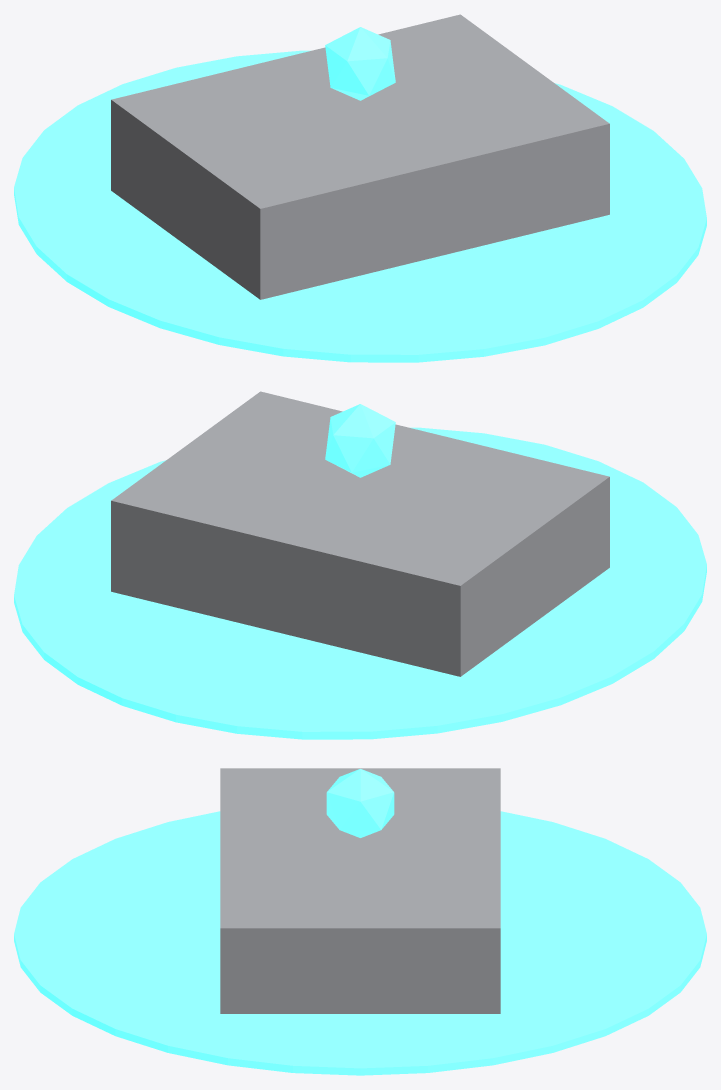
The model's file is portal_safe_zone_lev3.glb.
The picture shows the model from 3 angles, top to bottom: view 1: azimuth 30°, elevation 25°; view 2: azimuth 150°, elevation 25°; view 3: azimuth 270°, elevation 25°; orthographic projection. The views are drawn at different scales.
Parts seen in each view (by area): view 1: portal_safe_zone_lev3; view 2: portal_safe_zone_lev3; view 3: portal_safe_zone_lev3.
Boxes of the visible parts, x1,y1,x2,y2 form: portal_safe_zone_lev3: (14,14,706,362); portal_safe_zone_lev3: (14,391,706,739); portal_safe_zone_lev3: (14,768,706,1075).
Bounding box in the file's own units: 10.56 × 3.16 × 11.5.
